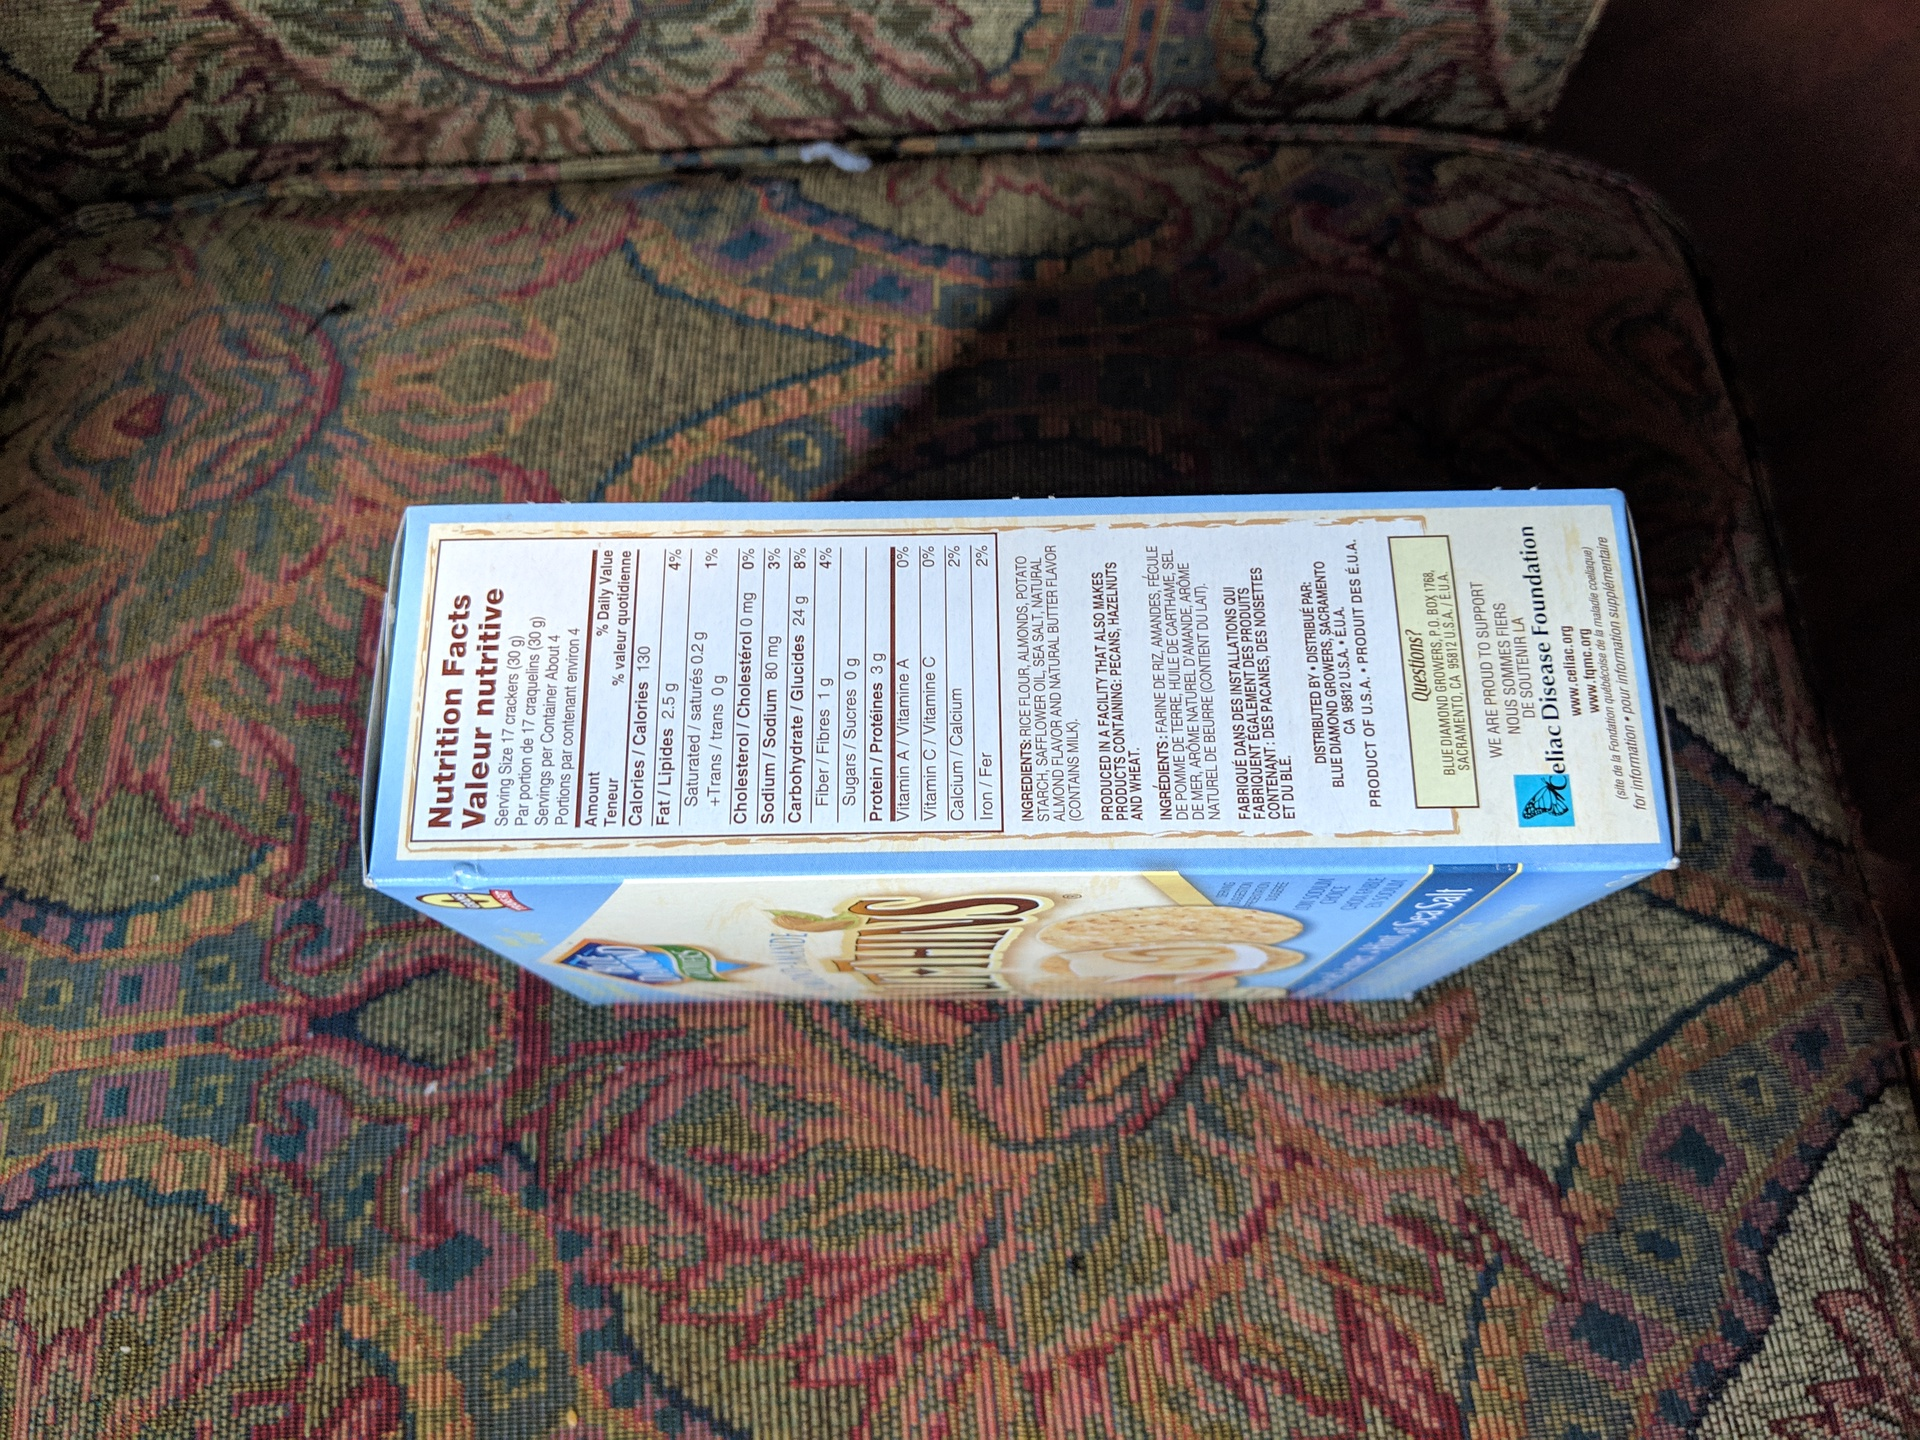blue_diamond_nut_thins_almond_seasalt: (398, 501, 1660, 998)
